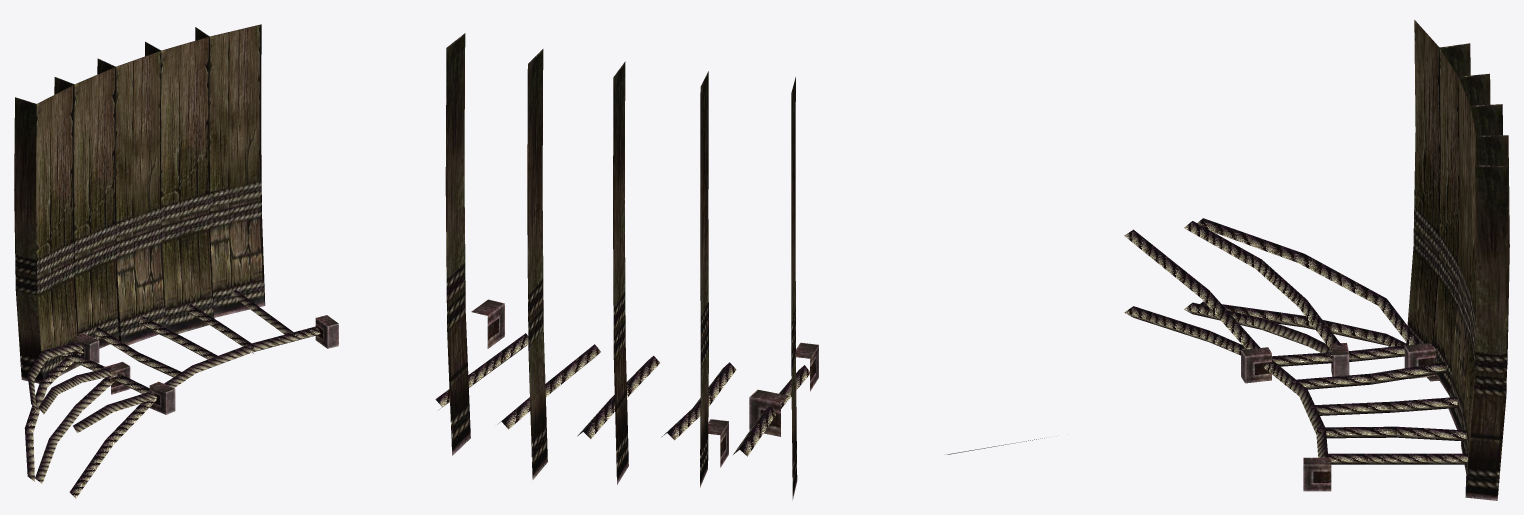
3 renders of one model, left to right at view 1: azimuth 30°, elevation 25°; view 2: azimuth 150°, elevation 25°; view 3: azimuth 270°, elevation 25°, orthographic. The views are drawn at different scales.
Visible parts, largest first — view 1: model_Object94; view 2: model_Object94; view 3: model_Object94.
Part boxes in pixels (left/top/right/bottom): model_Object94: left=14, top=24, right=338, bottom=498; model_Object94: left=435, top=33, right=1046, bottom=500; model_Object94: left=1124, top=20, right=1509, bottom=500.
Size of the model in its own units: 5.11 by 4.05 by 4.05.
Materials: 2 (2 with a texture image).
